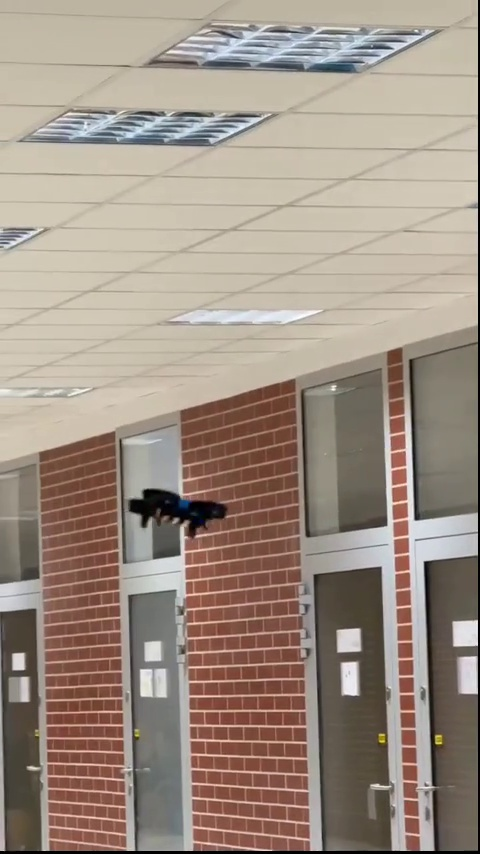drone: (129, 485, 221, 537)
